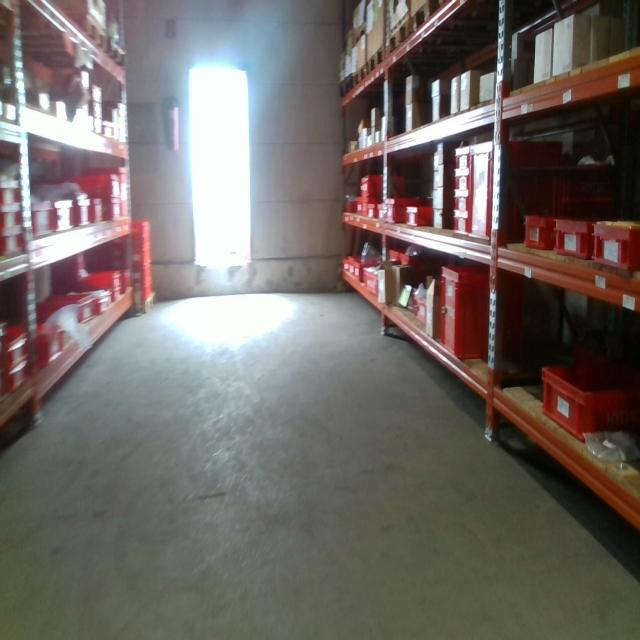pallet: (9, 17, 109, 60), (410, 1, 457, 39), (386, 17, 413, 59), (367, 41, 385, 79), (338, 70, 352, 108), (354, 59, 366, 91), (354, 23, 369, 48)
small_load_carrier: (466, 137, 563, 245), (536, 352, 639, 447), (437, 258, 522, 367), (82, 165, 132, 226), (591, 217, 640, 276), (32, 290, 97, 331), (554, 218, 593, 259), (67, 175, 121, 202), (518, 209, 550, 252), (364, 267, 402, 301), (69, 196, 104, 232), (1, 327, 30, 370), (386, 195, 426, 226), (37, 324, 65, 366), (1, 223, 27, 266), (31, 199, 55, 244), (358, 175, 402, 199), (53, 197, 76, 239), (82, 266, 121, 290), (8, 359, 32, 397), (1, 205, 25, 241), (1, 180, 23, 215), (406, 204, 431, 227), (451, 144, 472, 169), (453, 169, 472, 192), (453, 211, 471, 235), (98, 289, 110, 320), (119, 264, 132, 291), (134, 266, 153, 284), (106, 201, 121, 222), (453, 192, 470, 210), (360, 199, 376, 217), (134, 284, 152, 300), (353, 261, 366, 282), (132, 252, 149, 266), (135, 237, 151, 249), (377, 203, 386, 222), (368, 205, 377, 216), (115, 284, 122, 296)
